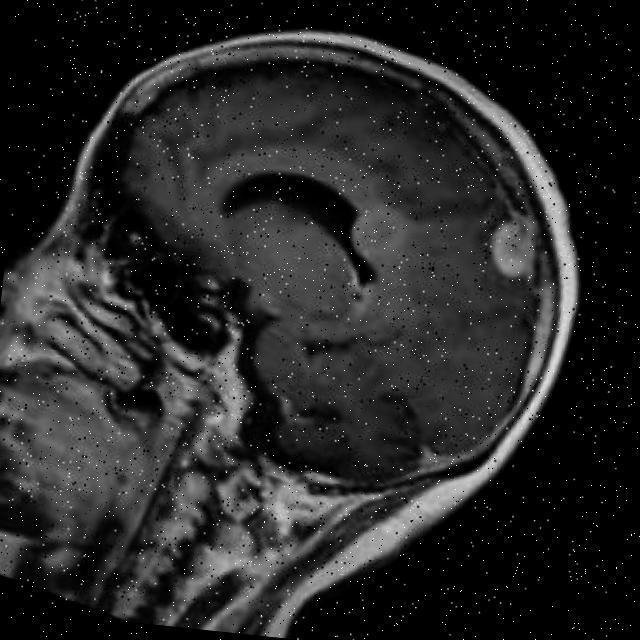MCI: (435, 162, 629, 384)
